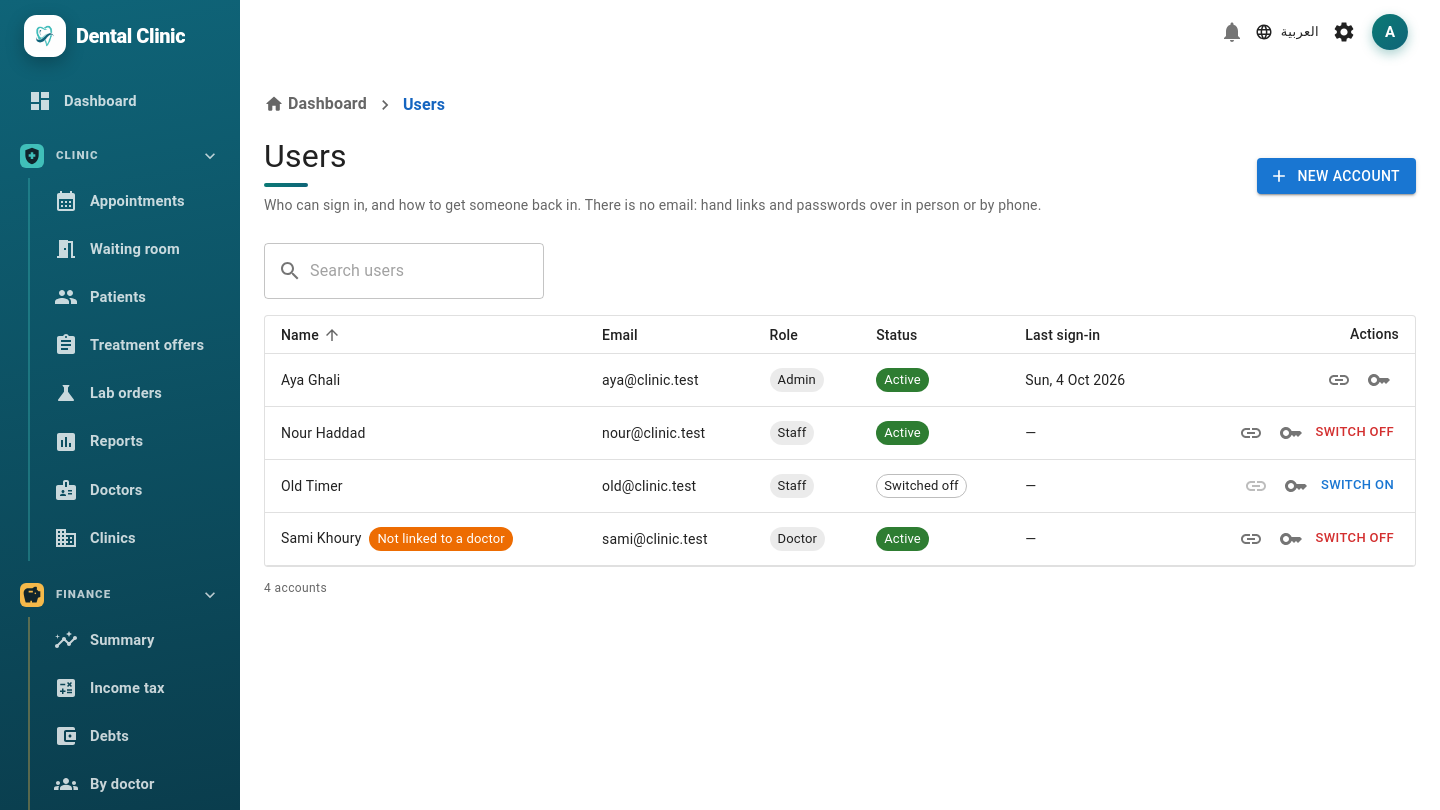
Test: users page › makes a reset link, shows it once with its expiry, and sends nothing by email
This screenshot has width=1440, height=810.
Click the button named "Reset link for Nour Haddad" at (1250, 433), box x1=1230 y1=413 x2=1270 y2=453
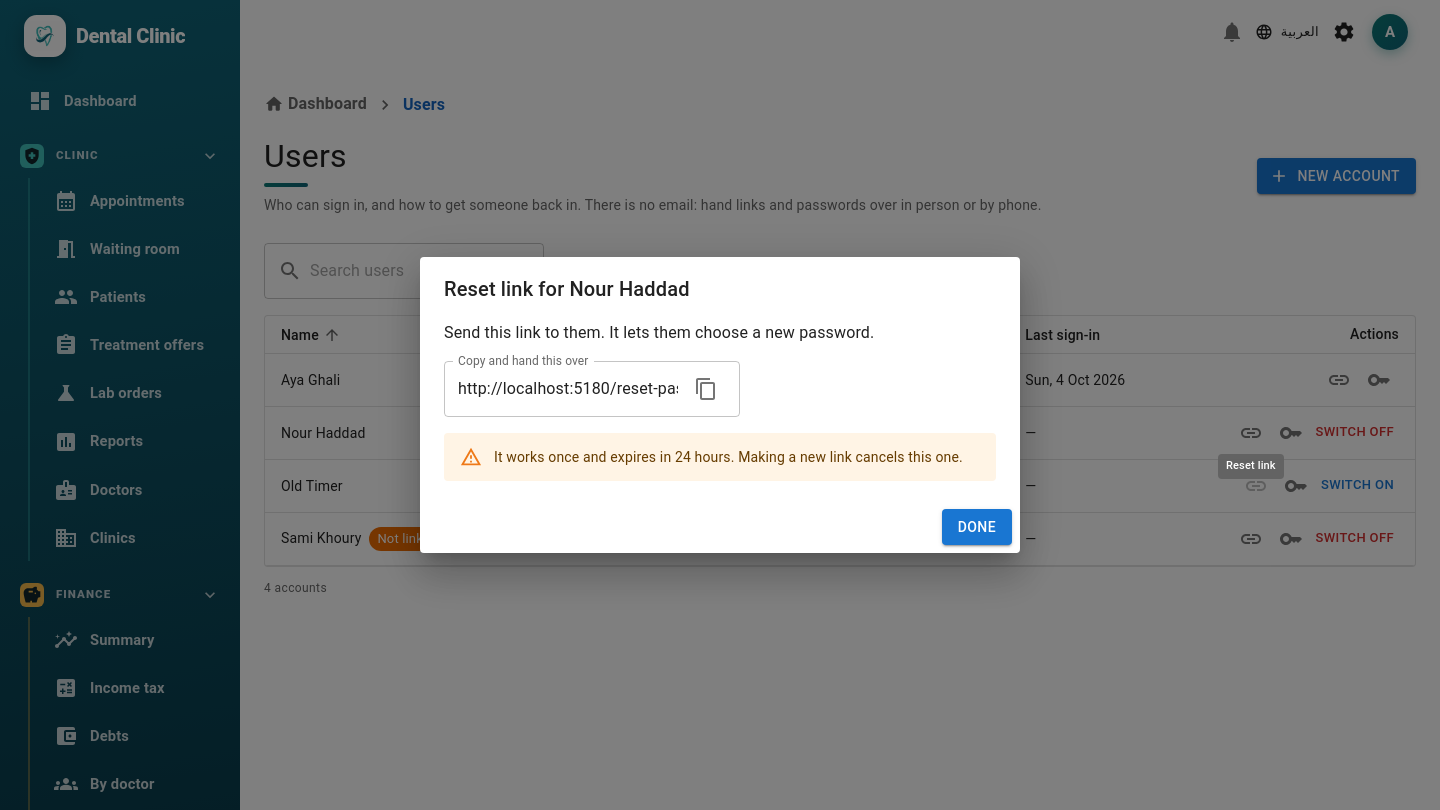
Expected: the field labelled "Copy and hand this over" holds "http://localhost:5180/reset-password/abc", x1=444 y1=361 x2=678 y2=417
Expected: the text "expires in 24 hours" is shown, x1=494 y1=449 x2=963 y2=465
Click the button "Done" at (977, 527), box x1=942 y1=509 x2=1012 y2=545
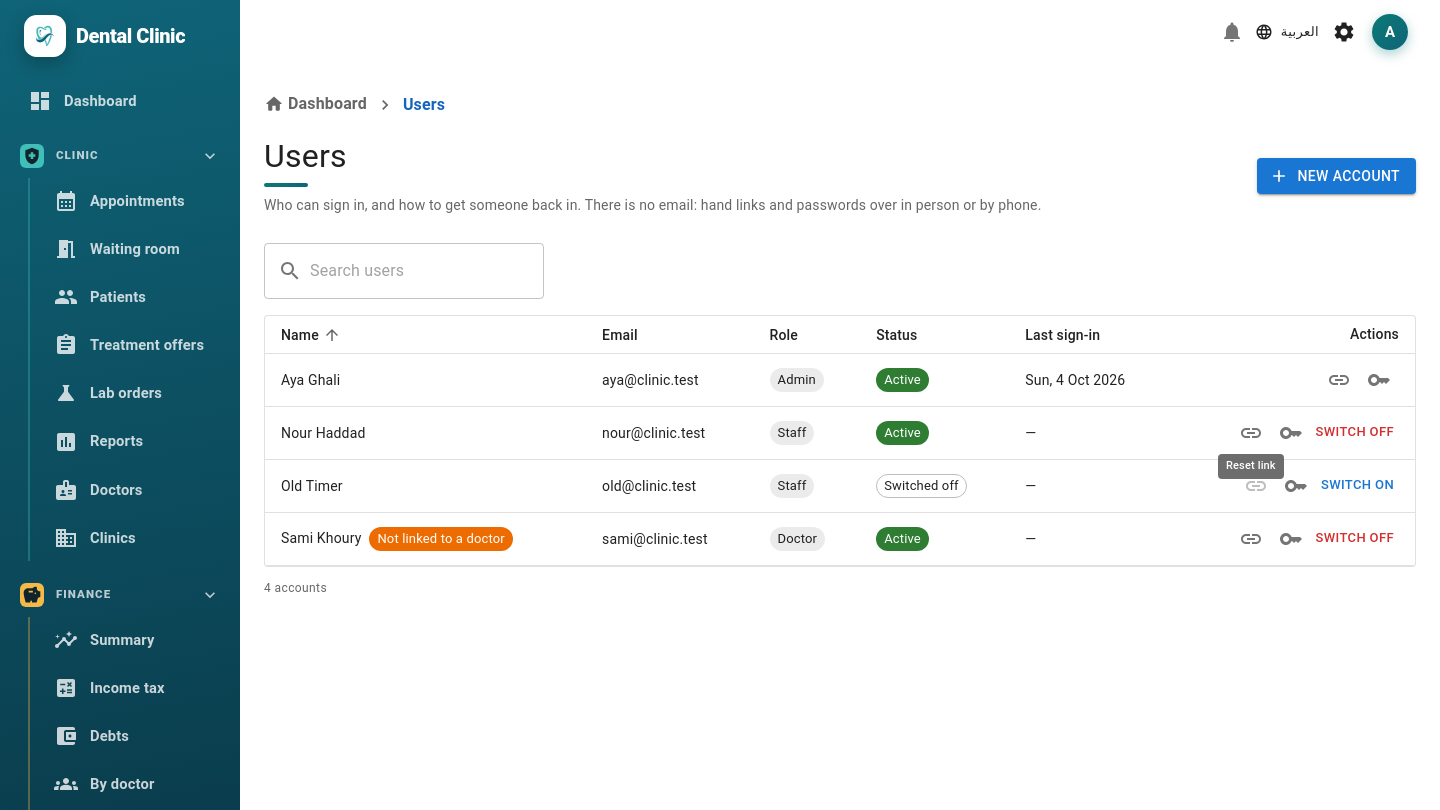
Expected: the dialog is gone
